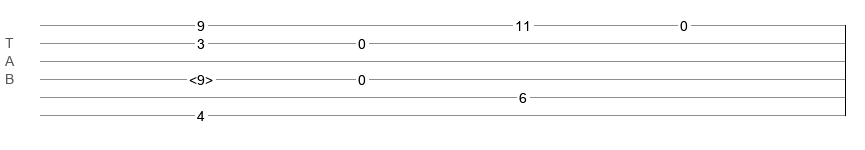0: (358, 72, 366, 82), (358, 36, 366, 46), (680, 18, 688, 28)
11: (515, 18, 531, 28)
3: (197, 36, 205, 46)
4: (197, 108, 205, 118)
6: (519, 90, 527, 100)
9: (197, 18, 205, 28)
harmonic: (189, 72, 213, 82)
